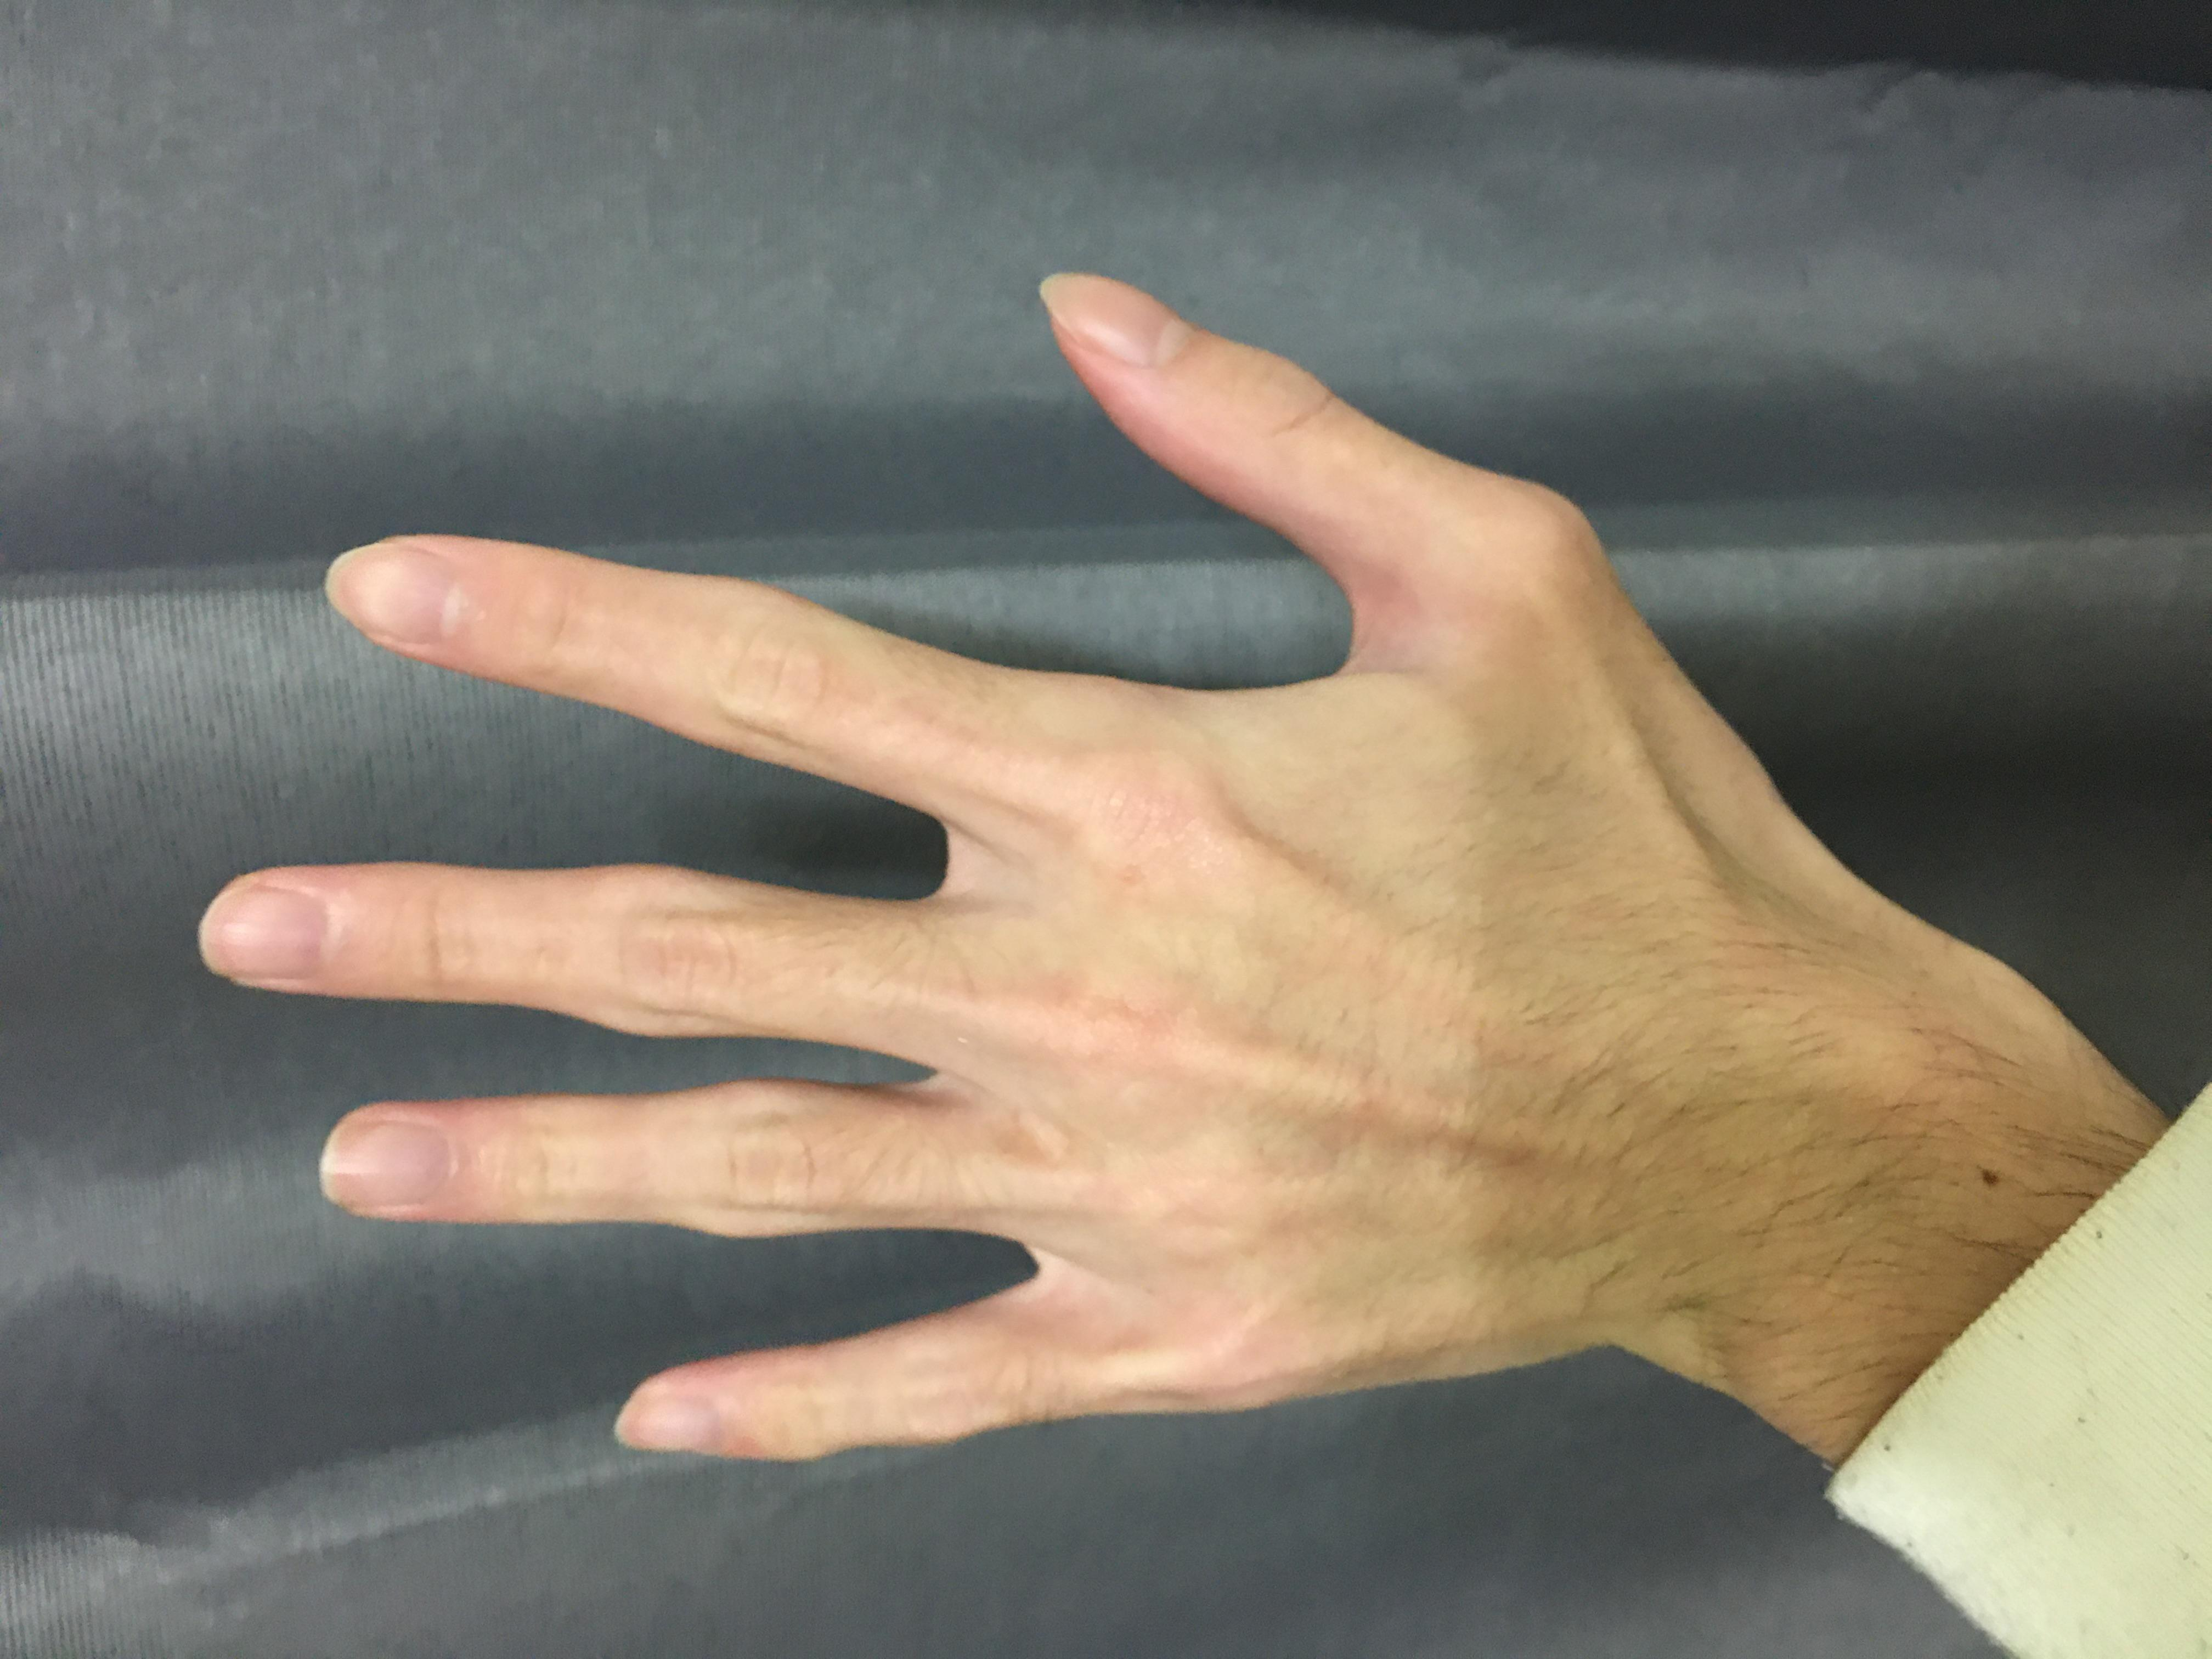hand: (239, 136, 1864, 1276)
